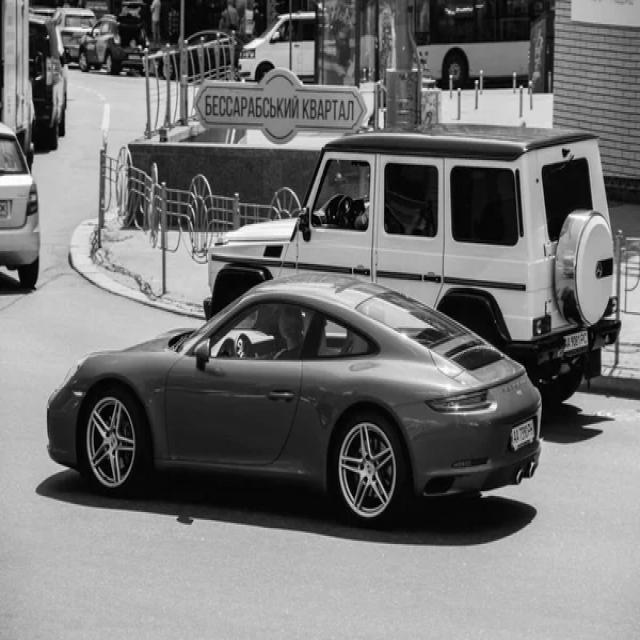Car: (47, 274, 542, 527), (208, 126, 622, 397), (0, 121, 38, 288), (238, 11, 315, 80), (80, 15, 149, 74), (53, 8, 96, 60)
